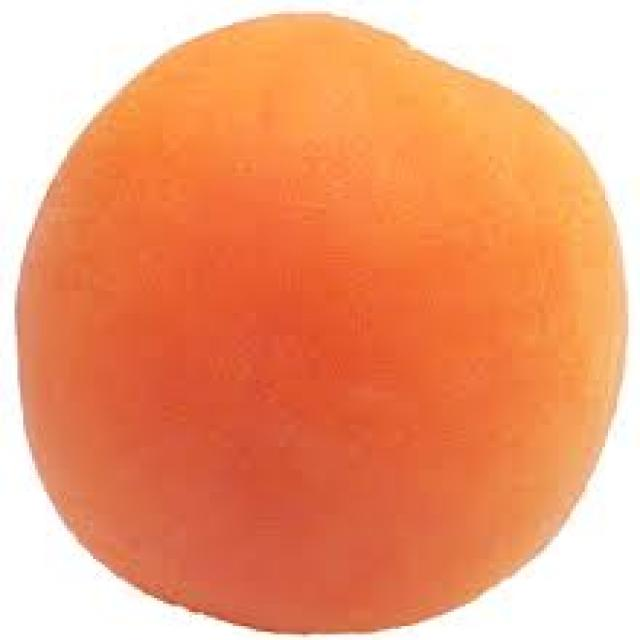apricot: (0, 14, 631, 637)
